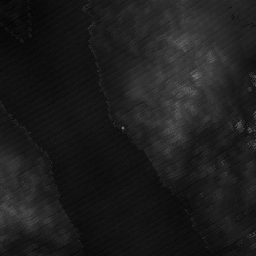Target: (119, 123, 126, 130)
